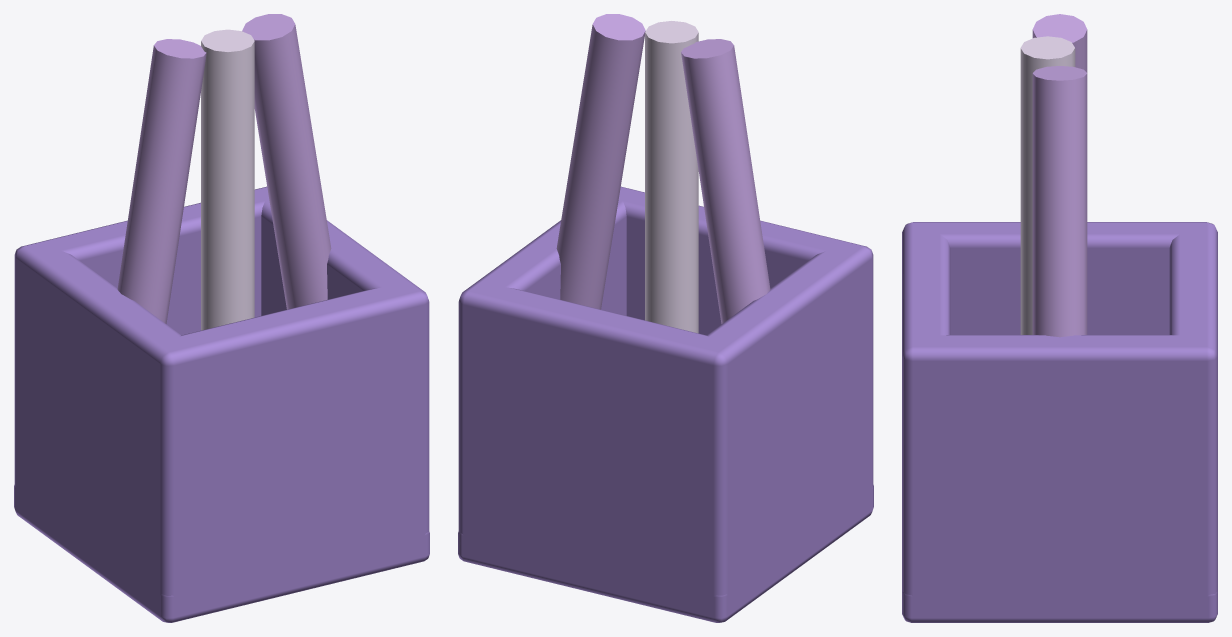
File: office-pen-holder.glb
3 renders of one model, left to right at view 1: azimuth 30°, elevation 25°; view 2: azimuth 150°, elevation 25°; view 3: azimuth 270°, elevation 25°, orthographic.
Parts seen in each view (by area): view 1: front, left, pen-1, pen-2, pen-0, back, right, bottom; view 2: back, left, pen-2, pen-1, pen-0, front, bottom, right; view 3: right, left, front, back, pen-2, bottom, pen-1, pen-0.
Boxes of the visible parts, x1,y1,x2,y2 form: front: (146,281,429,616); left: (27,249,181,605); pen-1: (201,29,254,330); pen-2: (242,14,331,309); pen-0: (117,39,206,323); back: (14,186,269,517); right: (261,200,412,315); bottom: (14,485,429,622); back: (458,281,740,616); left: (706,249,860,605); pen-2: (556,14,645,309); pen-1: (645,21,698,333); pen-0: (681,39,770,323); front: (618,186,873,517); bottom: (458,485,873,622); right: (475,200,626,315); right: (937,335,1182,615); left: (937,222,1182,334); front: (902,222,950,596); back: (1169,222,1217,596); pen-2: (1032,66,1087,337); bottom: (902,591,1217,622); pen-1: (1020,36,1075,334); pen-0: (1032,14,1087,72).
Bounding box in the file's own units: 0.52 × 0.9332 × 0.52.
